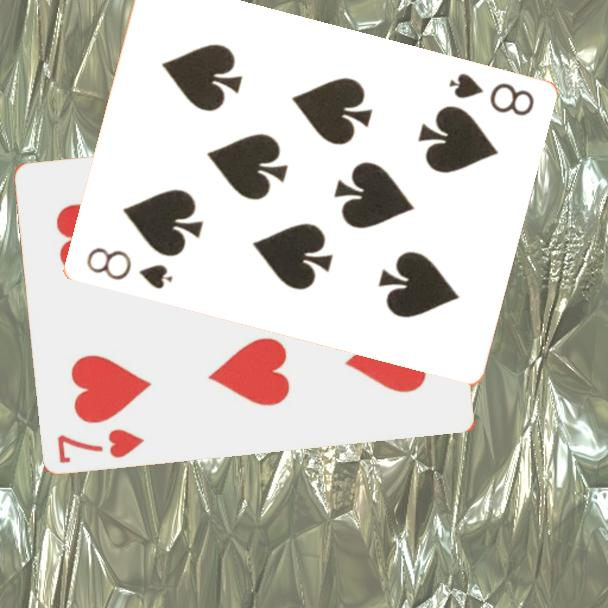h07: (54, 424, 148, 466)
s08: (444, 69, 537, 120), (82, 244, 175, 293)
